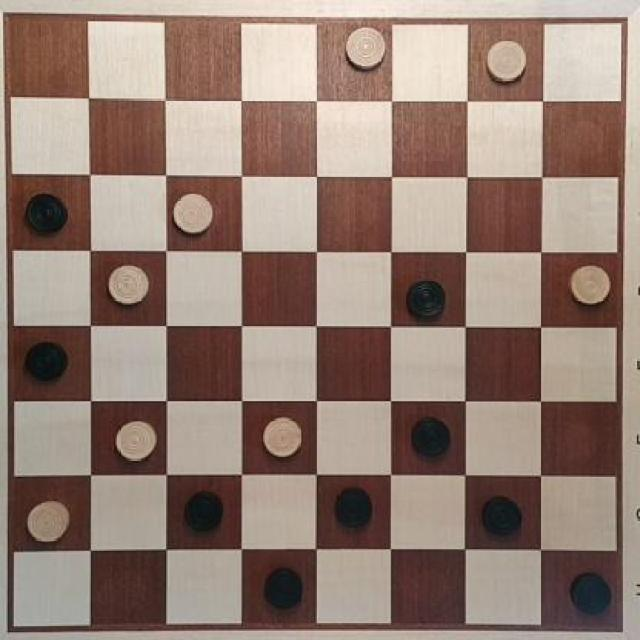BOARD: (1, 12, 622, 635)
black: (561, 563, 615, 624), (19, 186, 74, 242), (252, 561, 310, 613), (404, 408, 457, 462), (19, 338, 73, 390), (402, 273, 457, 323), (176, 488, 230, 536), (481, 491, 531, 542), (325, 487, 383, 526)
white: (560, 259, 618, 318), (23, 494, 80, 552), (478, 33, 531, 87), (256, 416, 308, 466), (106, 416, 160, 464), (169, 188, 220, 238), (338, 26, 390, 75), (98, 262, 154, 306)
